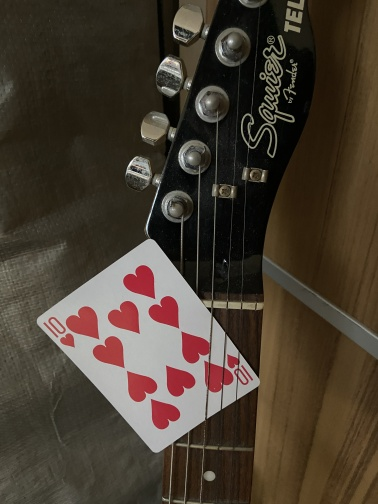ten: (35, 236, 263, 454)
